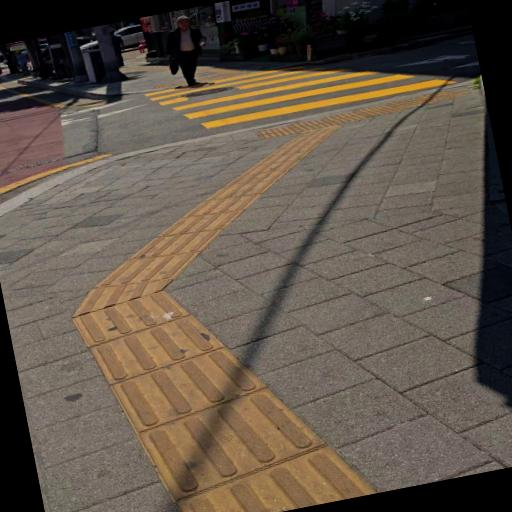yellow-crosswalk: (123, 22, 479, 156)
